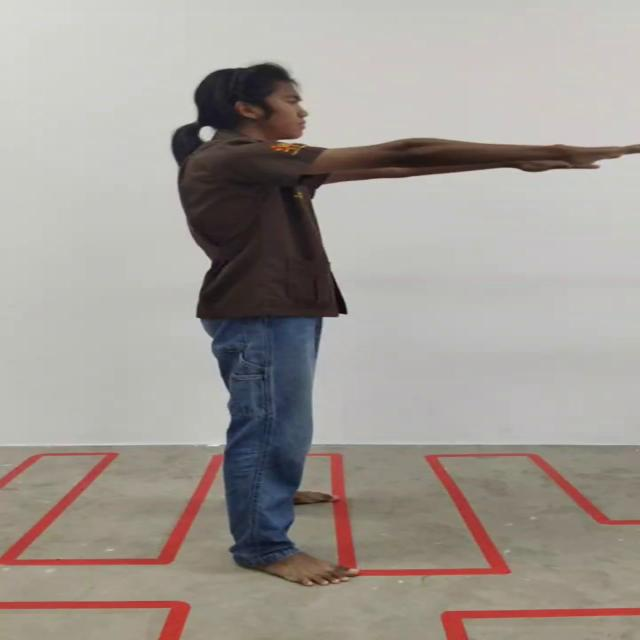stand: (167, 54, 598, 582)
